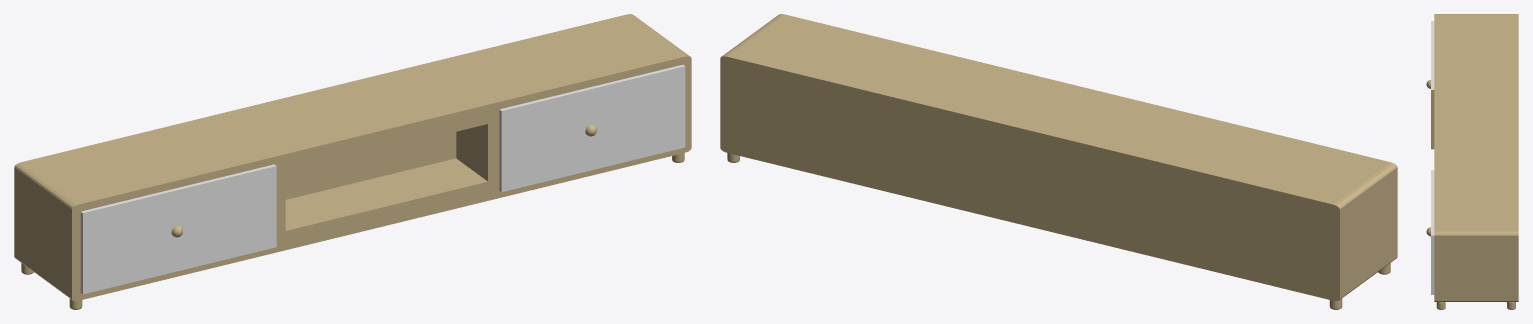
The model's file is mueble2x1.fbx.
3 renders of one model, left to right at view 1: azimuth 30°, elevation 25°; view 2: azimuth 150°, elevation 25°; view 3: azimuth 270°, elevation 25°, orthographic. The views are drawn at different scales.
Parts seen in each view (by area): view 1: mueblebajomaslargo; view 2: mueblebajomaslargo; view 3: mueblebajomaslargo.
Boxes of the visible parts, x1,y1,x2,y2 form: mueblebajomaslargo: (14, 14, 691, 309); mueblebajomaslargo: (720, 14, 1397, 309); mueblebajomaslargo: (1426, 14, 1518, 309).
Bounding box in the file's own units: 185 × 30.58 × 32.58.
